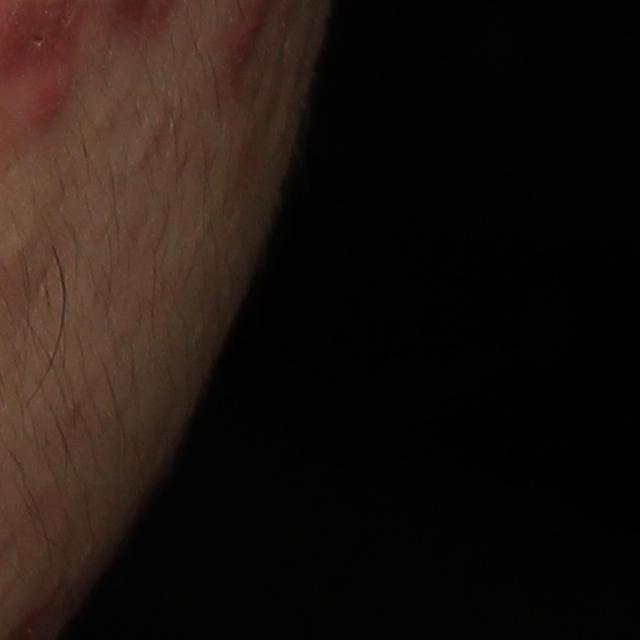papule: (20, 80, 69, 133)
